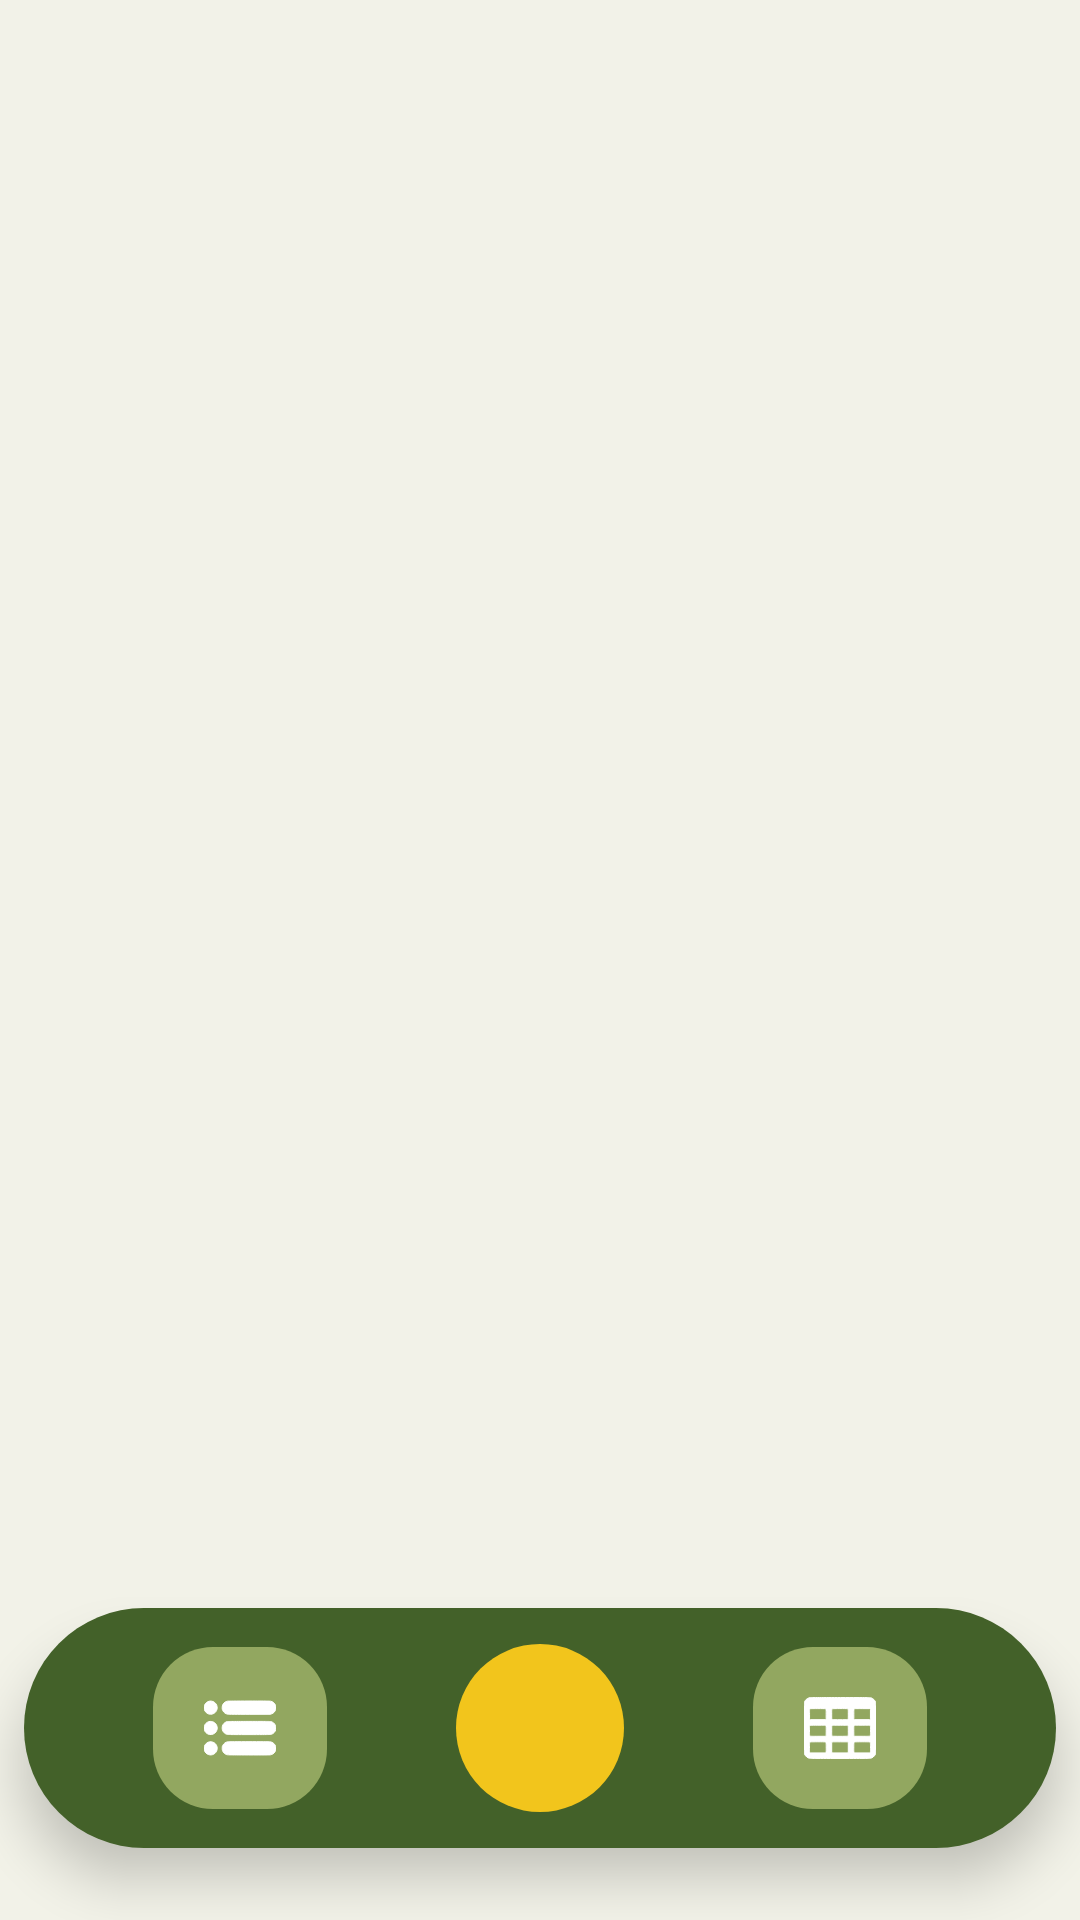

Screen size 1080 × 1920. Icon name, then its center in pixels as point (x, y):
list: point (240, 1728)
table grid: point (840, 1728)
